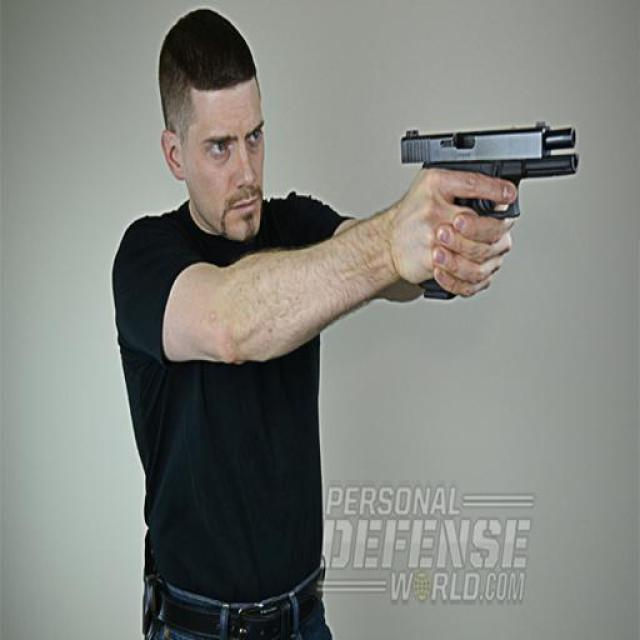pistol: (400, 123, 584, 304)
